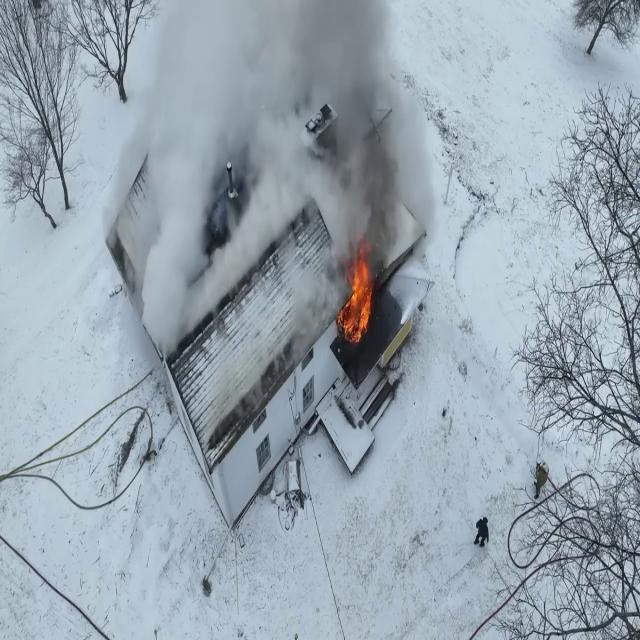Fire: (337, 244, 377, 347)
Smoke: (100, 0, 443, 321)
